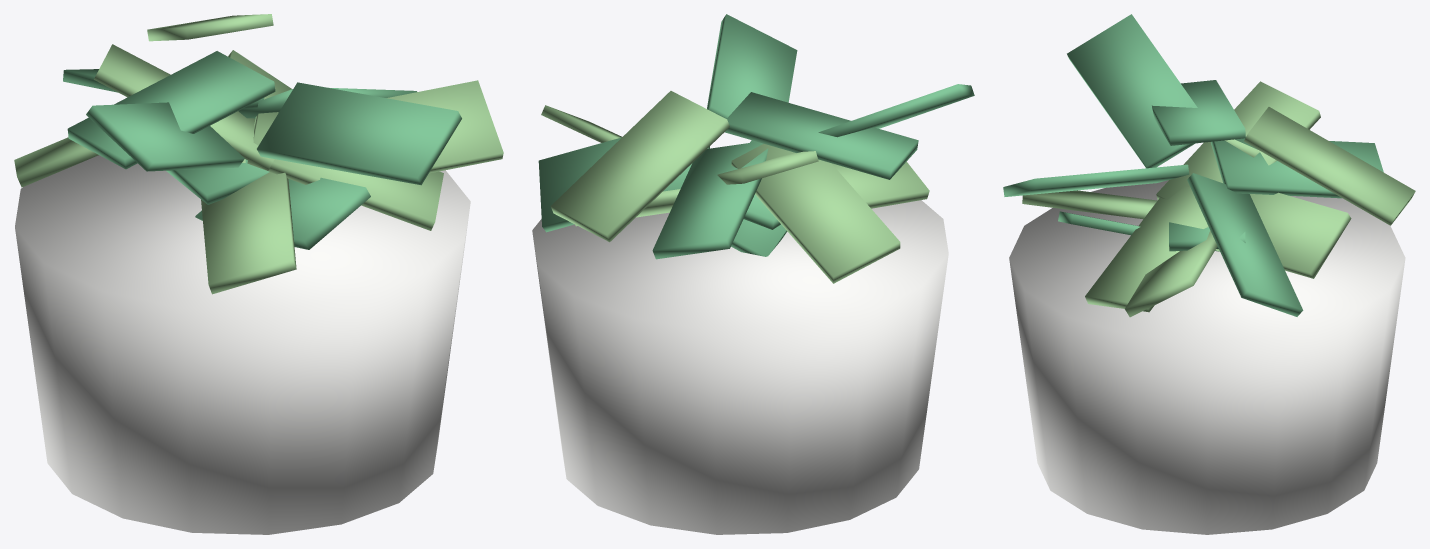
The model's file is SM_PlantDesk.fbx.
3 views of the same model, side by side, from view 1: azimuth 30°, elevation 25°; view 2: azimuth 150°, elevation 25°; view 3: azimuth 270°, elevation 25° (orthographic). The views are drawn at different scales.
Parts seen in each view (by area): view 1: SM_PlantDesk; view 2: SM_PlantDesk; view 3: SM_PlantDesk.
Boxes of the visible parts, x1=… form: SM_PlantDesk: x1=14, y1=14, x2=503, y2=534; SM_PlantDesk: x1=532, y1=14, x2=974, y2=534; SM_PlantDesk: x1=1003, y1=14, x2=1415, y2=534.
Bounding box in the file's own units: 0.1499 × 0.1432 × 0.1457.
